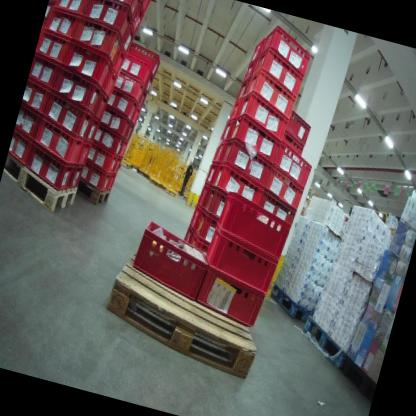pallet: (96, 249, 273, 383), (0, 153, 81, 217), (292, 309, 354, 372), (261, 277, 326, 331), (72, 176, 113, 210)
small_load_carrier: (122, 218, 217, 310), (207, 188, 294, 264), (199, 220, 286, 292), (191, 265, 271, 331), (245, 45, 306, 107), (231, 88, 294, 146), (214, 136, 277, 192), (17, 139, 80, 195), (46, 63, 106, 121), (238, 66, 300, 122), (66, 13, 127, 69), (256, 24, 315, 80), (224, 111, 285, 164), (55, 36, 117, 88), (207, 154, 268, 206), (31, 116, 88, 169), (38, 89, 96, 141), (266, 140, 318, 192), (260, 163, 307, 211), (250, 186, 302, 228), (79, 0, 138, 37), (102, 82, 142, 124), (41, 6, 82, 46), (34, 27, 75, 66), (123, 42, 164, 80), (26, 53, 65, 92), (19, 76, 54, 118), (117, 50, 155, 88), (279, 108, 315, 148), (12, 102, 46, 144), (85, 0, 142, 25), (192, 205, 225, 247), (110, 68, 148, 104), (88, 124, 127, 159), (77, 160, 115, 193), (96, 107, 132, 141), (84, 143, 120, 176), (5, 128, 36, 166), (199, 185, 228, 223), (50, 0, 94, 23), (92, 91, 115, 122), (118, 19, 137, 54), (129, 1, 148, 34), (186, 202, 205, 234), (83, 115, 102, 147), (110, 45, 129, 77), (240, 53, 259, 83), (103, 66, 122, 95), (187, 233, 212, 255), (233, 76, 251, 106), (226, 95, 244, 124), (68, 165, 87, 192), (211, 134, 227, 166), (75, 140, 92, 170), (42, 0, 58, 29), (217, 119, 234, 146), (195, 180, 210, 210), (248, 36, 265, 62), (203, 158, 219, 185), (182, 219, 198, 245), (134, 86, 149, 113), (128, 101, 142, 127), (123, 120, 137, 144), (142, 72, 155, 94), (117, 137, 130, 158), (111, 156, 124, 176), (136, 0, 151, 15), (106, 175, 117, 193)
